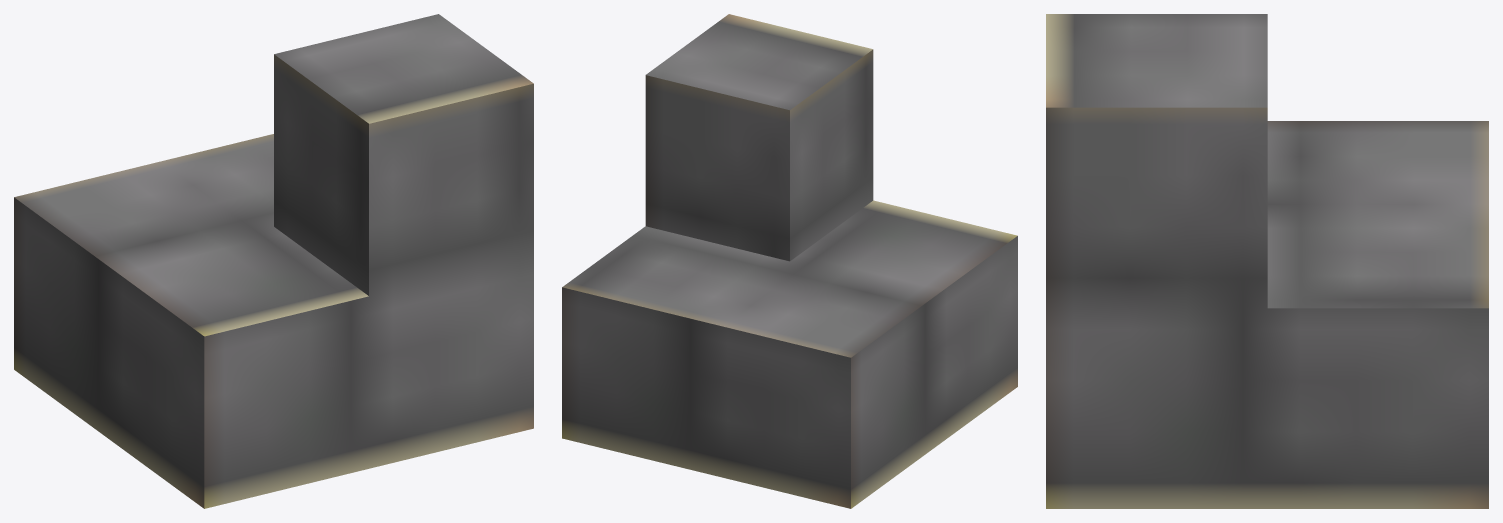
File: Stone_Polish_Stair_2_Block.fbx
3 views of the same model, side by side, from view 1: azimuth 30°, elevation 25°; view 2: azimuth 150°, elevation 25°; view 3: azimuth 270°, elevation 25° (orthographic). The views are drawn at different scales.
Visible parts, largest first — view 1: Stone_Polish_Stair_2_Block; view 2: Stone_Polish_Stair_2_Block; view 3: Stone_Polish_Stair_2_Block.
Boxes of the visible parts, x1,y1,x2,y2 form: Stone_Polish_Stair_2_Block: (14, 14, 533, 508); Stone_Polish_Stair_2_Block: (562, 14, 1017, 508); Stone_Polish_Stair_2_Block: (1046, 14, 1488, 508).
Size of the model in its own units: 25 by 25 by 25.
Materials: 1 (1 with a texture image).
